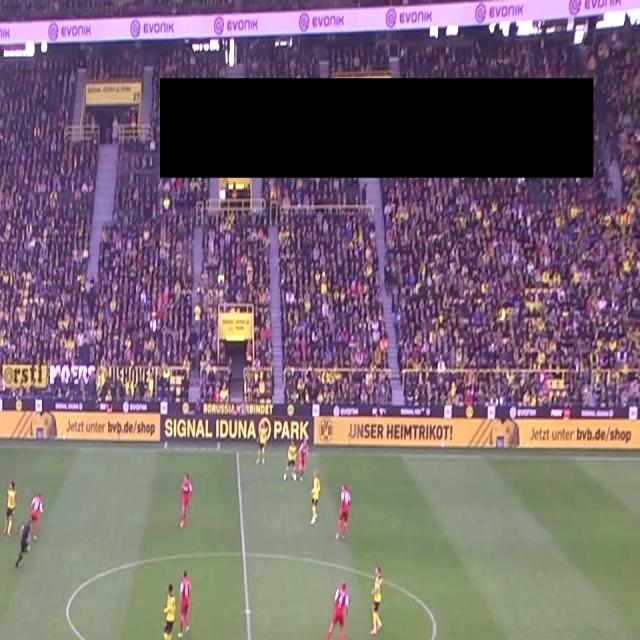referee: (12, 518, 36, 573)
soccer-player: (319, 572, 357, 640), (364, 558, 390, 640), (333, 480, 360, 549), (0, 476, 22, 540), (177, 560, 194, 636), (304, 470, 324, 530), (163, 577, 179, 640), (180, 472, 195, 537), (295, 428, 311, 484), (30, 489, 47, 541), (282, 428, 296, 490), (254, 419, 268, 471)
